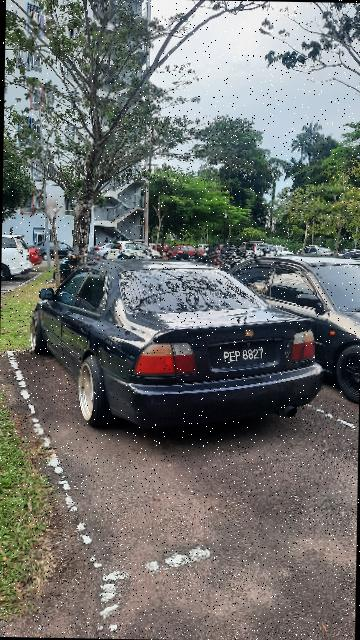License_Plate: (207, 341, 288, 372)
car: (29, 259, 328, 436), (222, 258, 360, 404)
